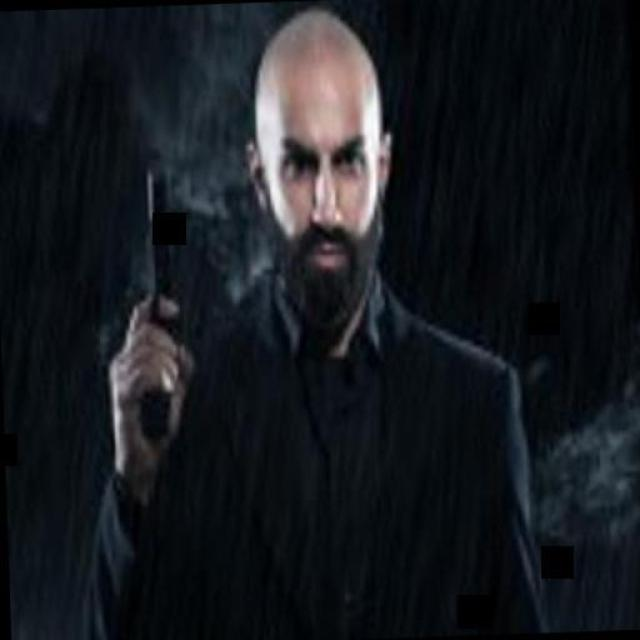gun: (114, 139, 216, 459)
